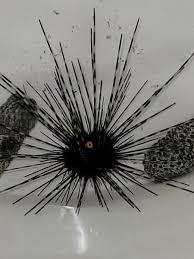urchin: (3, 22, 194, 223)
